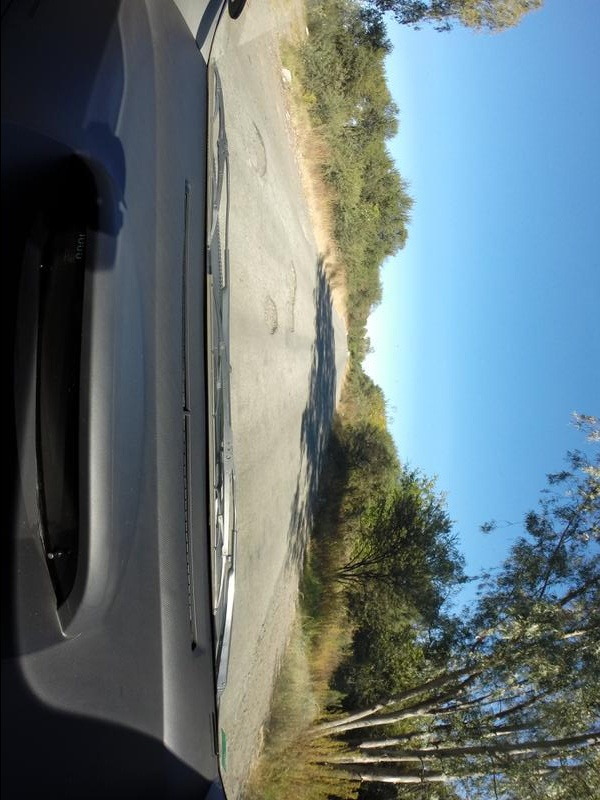pothole: (244, 117, 267, 191), (281, 258, 300, 334), (262, 296, 279, 345)
